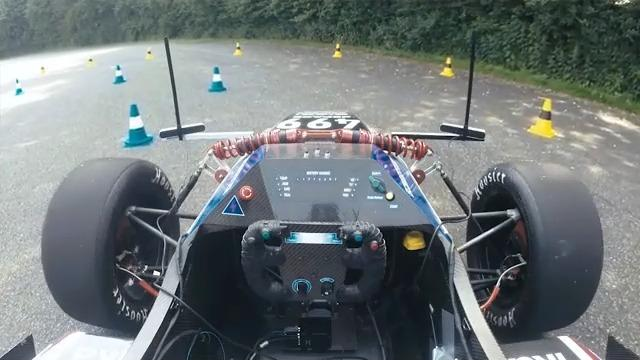blue_cone: (123, 104, 156, 148), (207, 64, 230, 94), (111, 64, 128, 85), (13, 77, 27, 97)
yellow_cone: (527, 95, 561, 140), (438, 54, 456, 81), (330, 41, 344, 60), (233, 39, 244, 58), (144, 47, 155, 60)
